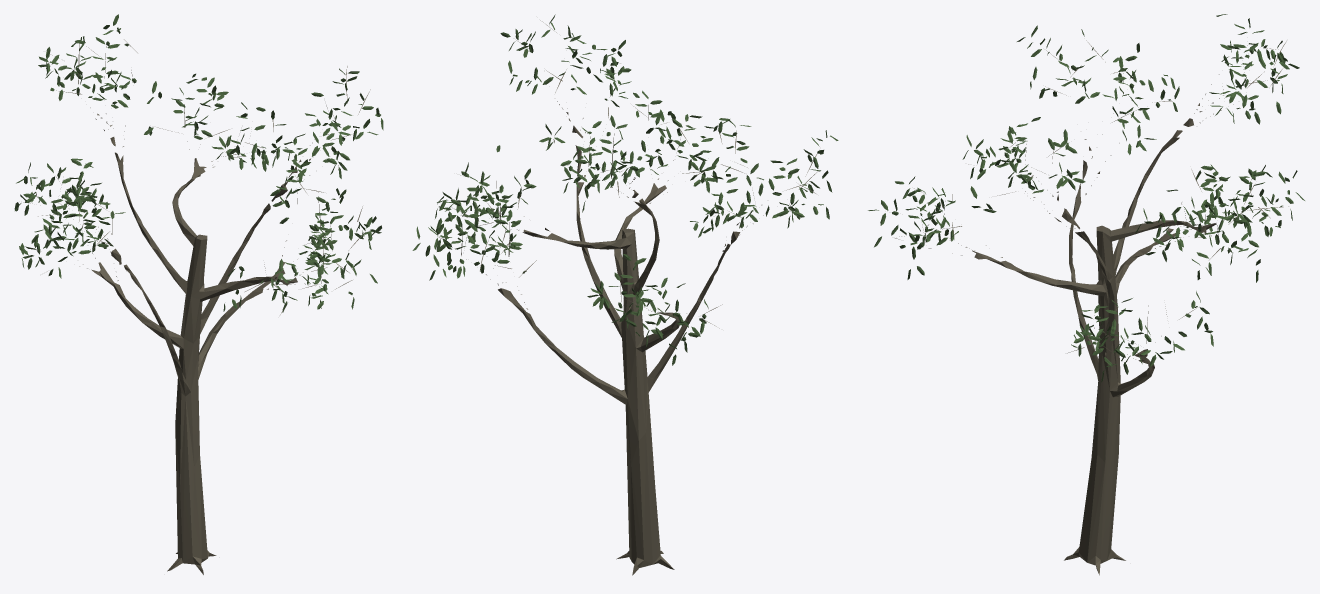
File: CheneVert_0_Niveau1.fbx
The picture shows the model from 3 angles, left to right: view 1: azimuth 30°, elevation 25°; view 2: azimuth 150°, elevation 25°; view 3: azimuth 270°, elevation 25°; orthographic projection. The views are drawn at different scales.
Visible parts, largest first — view 1: CheneVert_0_Niveau1; view 2: CheneVert_0_Niveau1; view 3: CheneVert_0_Niveau1.
Boxes of the visible parts, x1,y1,x2,y2 form: CheneVert_0_Niveau1: (14,14,383,574); CheneVert_0_Niveau1: (412,14,838,575); CheneVert_0_Niveau1: (868,14,1304,575).
Bounding box in the file's own units: 289 × 374 × 284.
